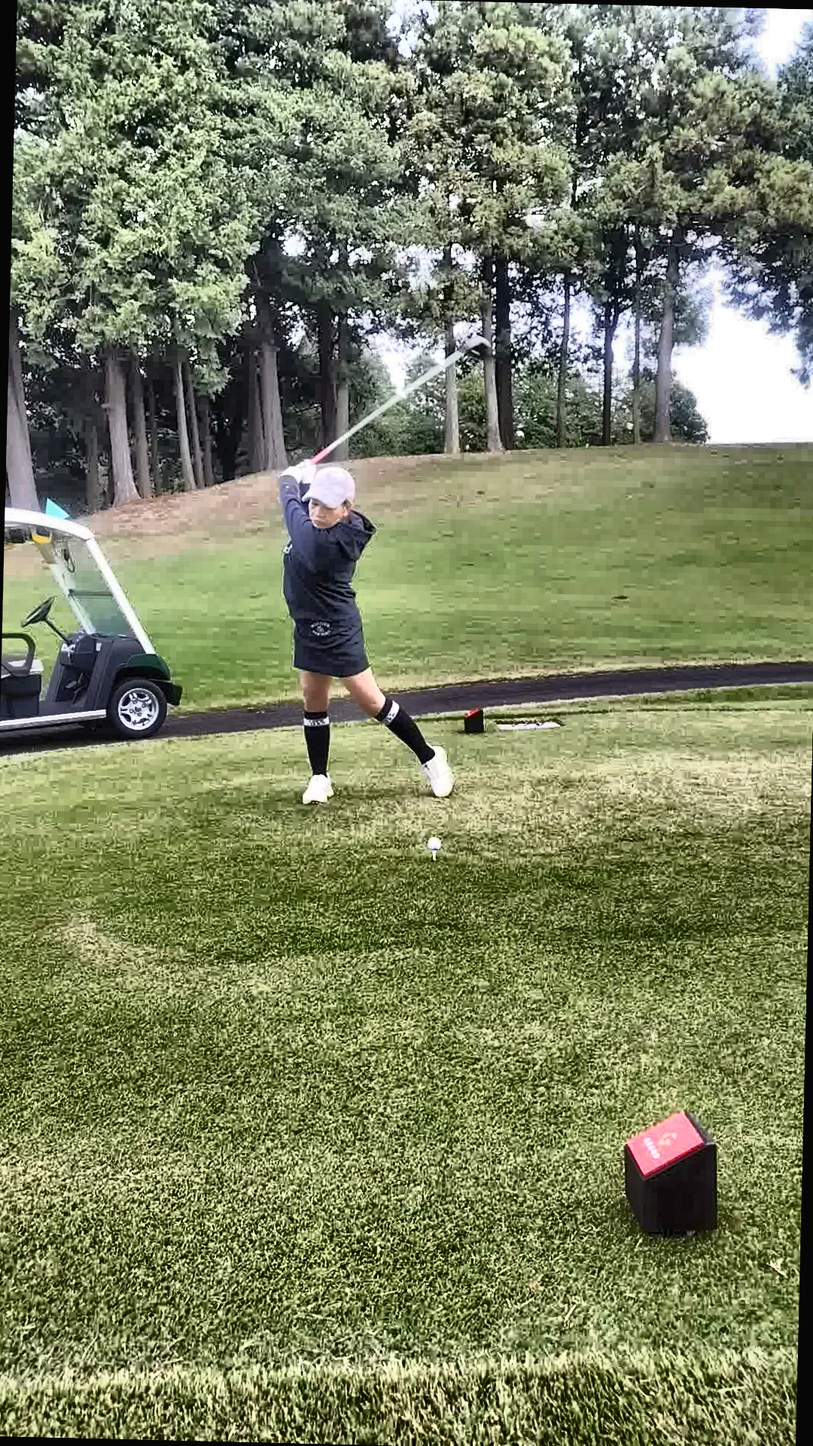clubhead: (363, 223, 579, 483)
